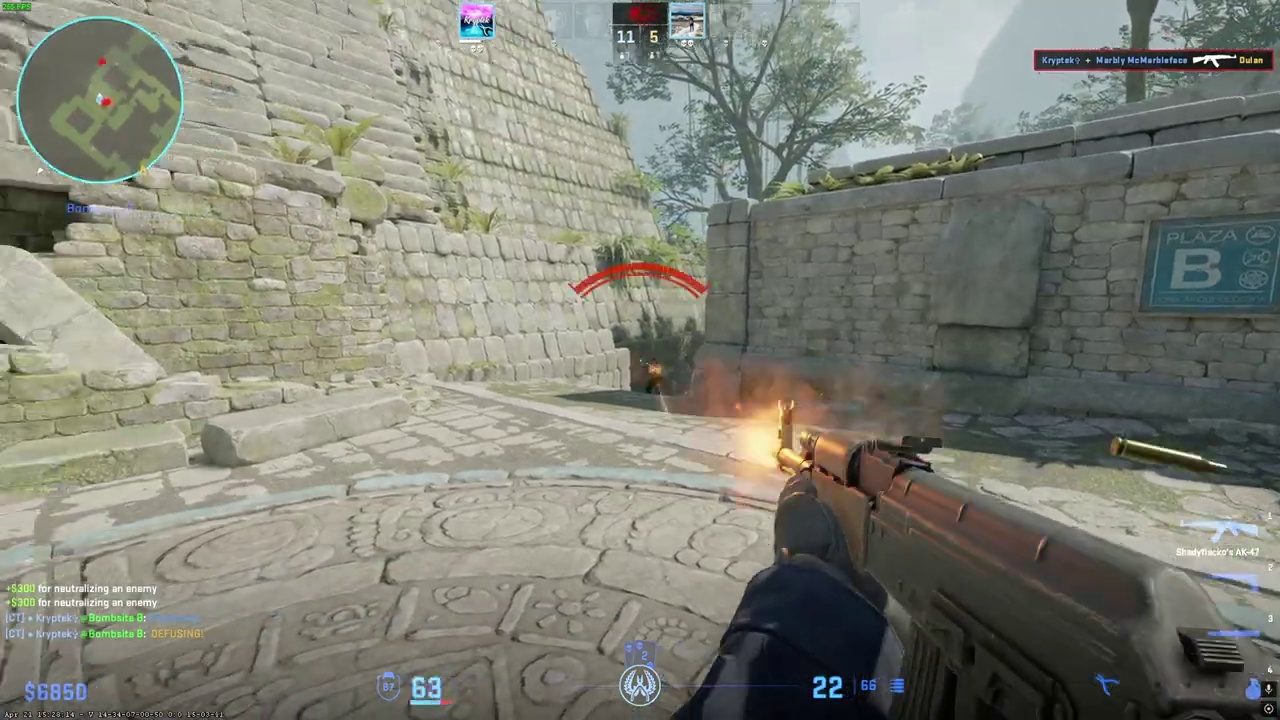Terrorist: (646, 359, 664, 394)
